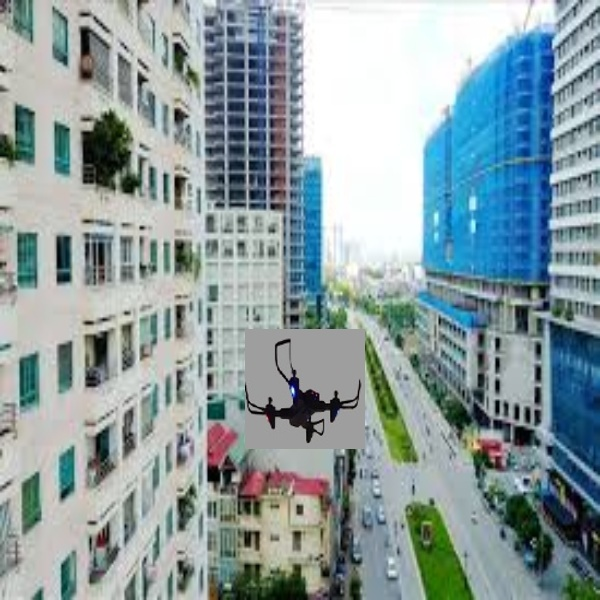drone: (246, 326, 365, 445)
